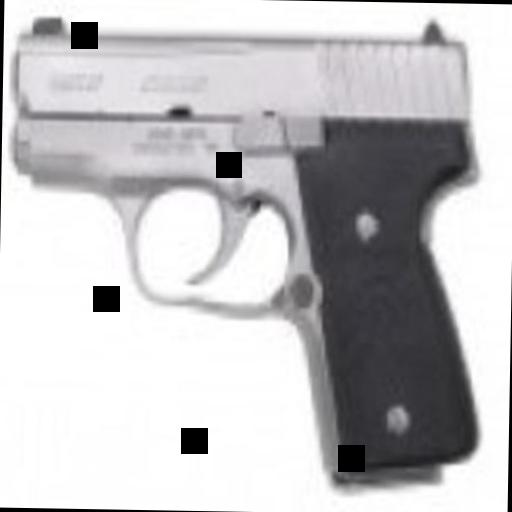Handgun: (11, 12, 489, 485)
